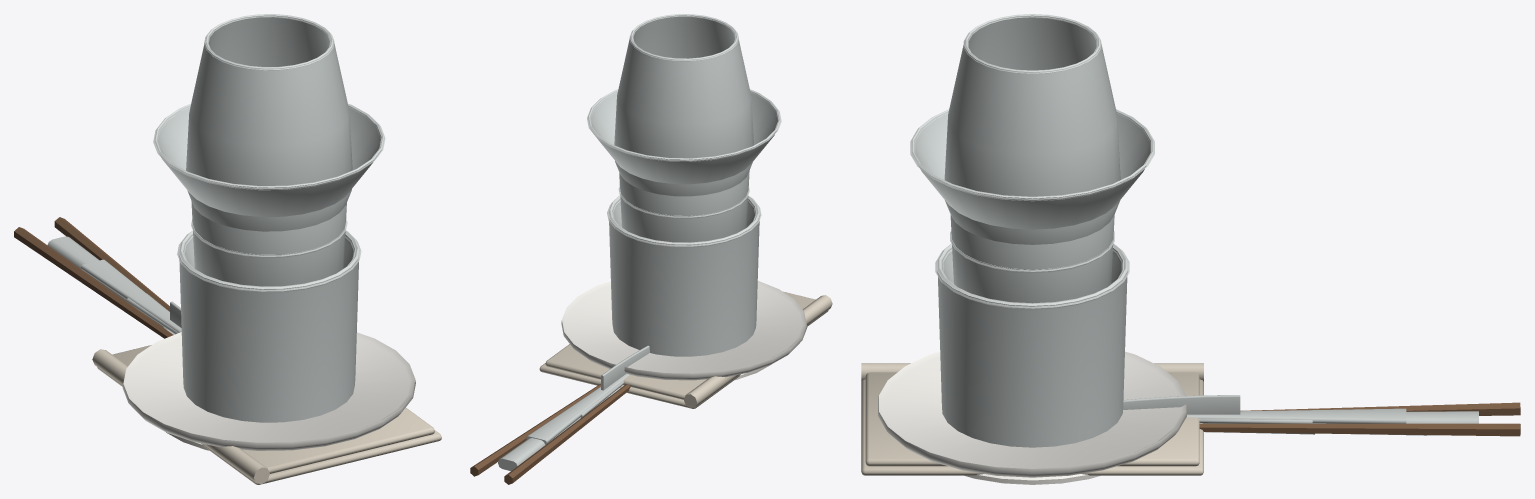
Rendered from tableware-lod1.glb.
3 renders of one model, left to right at view 1: azimuth 30°, elevation 25°; view 2: azimuth 150°, elevation 25°; view 3: azimuth 270°, elevation 25°, orthographic. The views are drawn at different scales.
Parts seen in each view (by area): view 1: wine.lod1__table glass, rocks.lod1__table glass, saucer.lod1__table porcelain, coupe.lod1__table glass, tulip.lod1__table glass, napkin.lod1__oatmeal linen, chopsticks.lod1__chopstick walnut, spoon.lod1__furniture polished nickel, rocks.lod1__table glass rim, coupe.lod1__table glass rim, wine.lod1__table glass rim, knife.lod1__furniture polished nickel (+2 smaller); view 2: wine.lod1__table glass, rocks.lod1__table glass, saucer.lod1__table porcelain, coupe.lod1__table glass, tulip.lod1__table glass, napkin.lod1__oatmeal linen, chopsticks.lod1__chopstick walnut, knife.lod1__furniture polished nickel, spoon.lod1__furniture polished nickel, rocks.lod1__table glass rim, coupe.lod1__table glass rim, wine.lod1__table glass rim (+1 smaller); view 3: wine.lod1__table glass, rocks.lod1__table glass, saucer.lod1__table porcelain, coupe.lod1__table glass, tulip.lod1__table glass, napkin.lod1__oatmeal linen, chopsticks.lod1__chopstick walnut, knife.lod1__furniture polished nickel, spoon.lod1__furniture polished nickel, coupe.lod1__table glass rim, rocks.lod1__table glass rim, wine.lod1__table glass rim (+2 smaller).
Part boxes in pixels (<box>): wine.lod1__table glass: <box>186,14,352,231</box>; rocks.lod1__table glass: <box>178,230,360,422</box>; saucer.lod1__table porcelain: <box>122,332,415,450</box>; coupe.lod1__table glass: <box>154,104,384,216</box>; tulip.lod1__table glass: <box>191,201,346,286</box>; napkin.lod1__oatmeal linen: <box>92,345,441,484</box>; chopsticks.lod1__chopstick walnut: <box>14,217,173,338</box>; spoon.lod1__furniture polished nickel: <box>81,259,181,332</box>; rocks.lod1__table glass rim: <box>177,231,361,292</box>; coupe.lod1__table glass rim: <box>153,103,385,190</box>; wine.lod1__table glass rim: <box>204,14,334,70</box>; knife.lod1__furniture polished nickel: <box>47,236,181,329</box>; wine.lod1__table glass: <box>614,14,753,196</box>; rocks.lod1__table glass: <box>608,196,760,356</box>; saucer.lod1__table porcelain: <box>561,280,807,380</box>; coupe.lod1__table glass: <box>587,89,780,184</box>; tulip.lod1__table glass: <box>619,171,749,242</box>; napkin.lod1__oatmeal linen: <box>539,291,832,408</box>; chopsticks.lod1__chopstick walnut: <box>470,384,630,484</box>; knife.lod1__furniture polished nickel: <box>498,345,649,470</box>; spoon.lod1__furniture polished nickel: <box>526,374,629,444</box>; rocks.lod1__table glass rim: <box>607,196,761,247</box>; coupe.lod1__table glass rim: <box>587,89,781,161</box>; wine.lod1__table glass rim: <box>629,14,738,61</box>; wine.lod1__table glass: <box>944,14,1120,244</box>; rocks.lod1__table glass: <box>936,243,1128,447</box>; saucer.lod1__table porcelain: <box>878,351,1186,477</box>; coupe.lod1__table glass: <box>911,109,1154,229</box>; tulip.lod1__table glass: <box>950,215,1114,303</box>; napkin.lod1__oatmeal linen: <box>861,363,1203,475</box>; chopsticks.lod1__chopstick walnut: <box>1199,402,1520,436</box>; knife.lod1__furniture polished nickel: <box>1123,395,1478,423</box>; spoon.lod1__furniture polished nickel: <box>1187,408,1406,423</box>; coupe.lod1__table glass rim: <box>910,109,1154,201</box>; rocks.lod1__table glass rim: <box>935,244,1129,309</box>; wine.lod1__table glass rim: <box>963,14,1101,73</box>.
Size of the model in its own units: 0.15 by 0.2094 by 0.3176.
